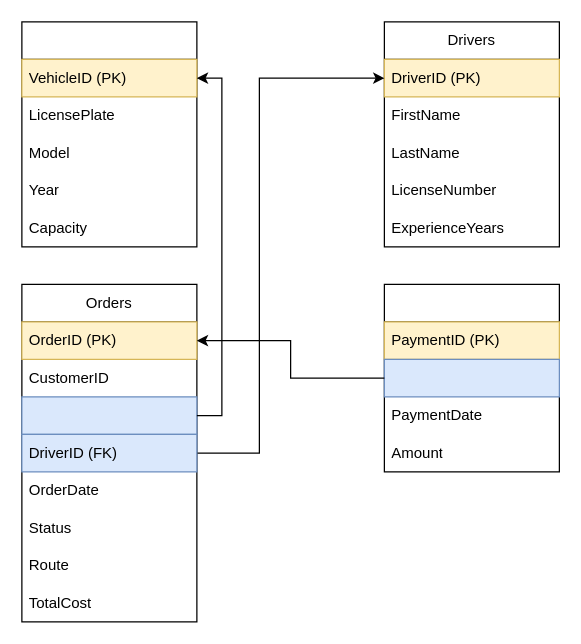
Image size: 581x644. Some labels were removed from this diagram. The box of each missing label's shape, as (x1, y1, x2, y2) in pixels:
OrderID (FK): (383, 358, 559, 397)
Payments: (383, 283, 559, 472)
VehicleID (FK): (21, 396, 197, 434)
Vehicles: (21, 21, 197, 247)
